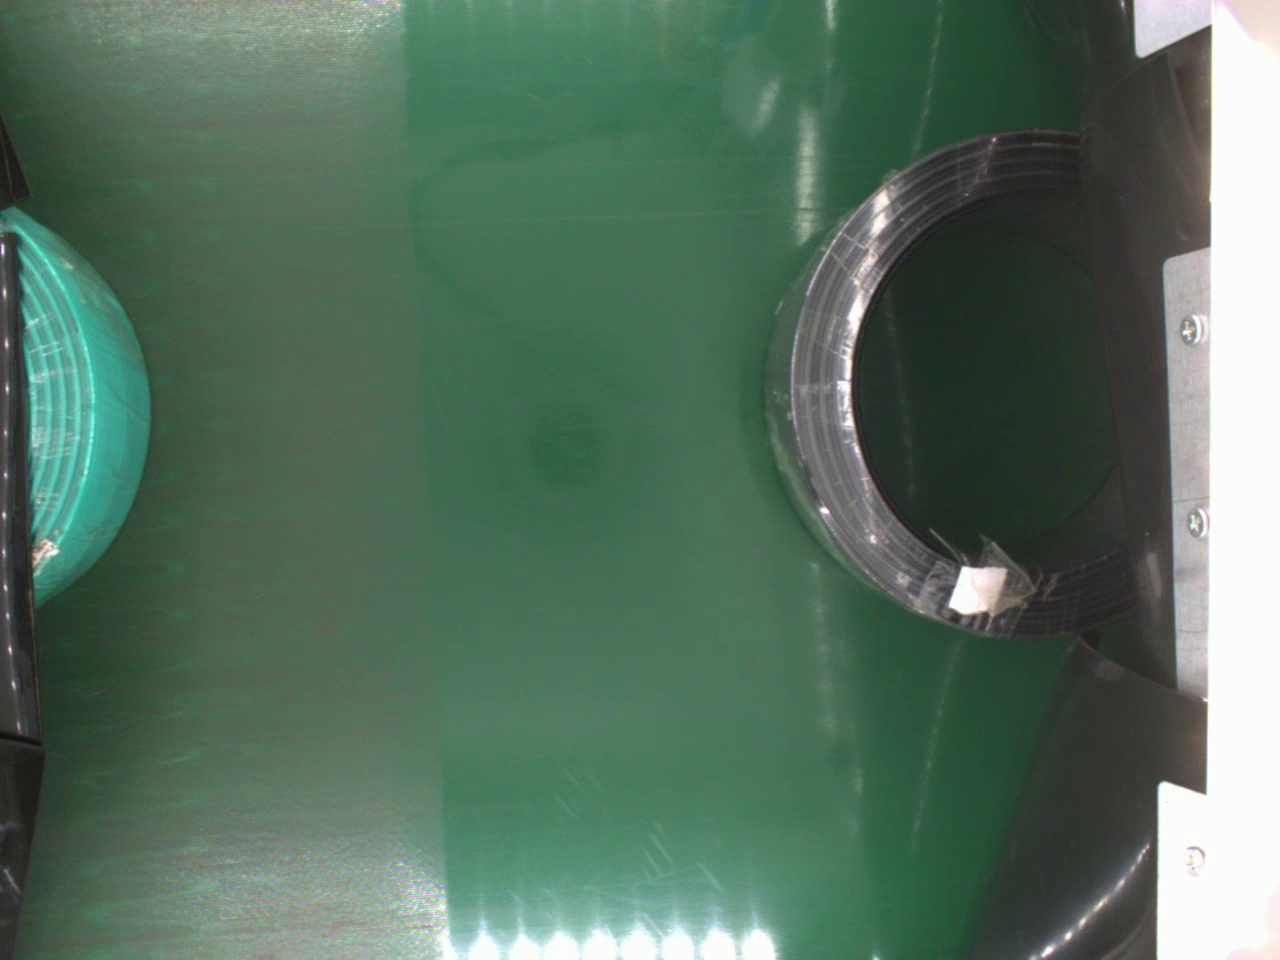black: (750, 123, 1139, 642)
green: (9, 207, 155, 613)
